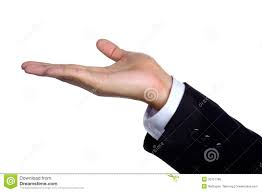hand: (18, 35, 172, 113)
